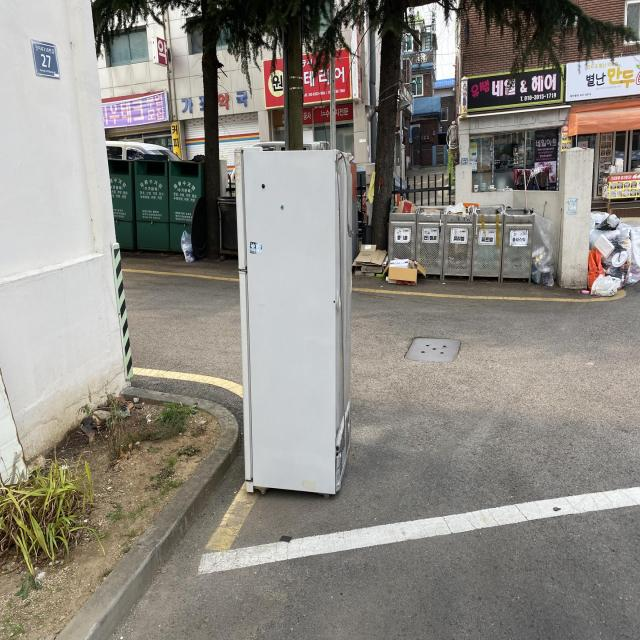refrigerator: (234, 146, 356, 499)
